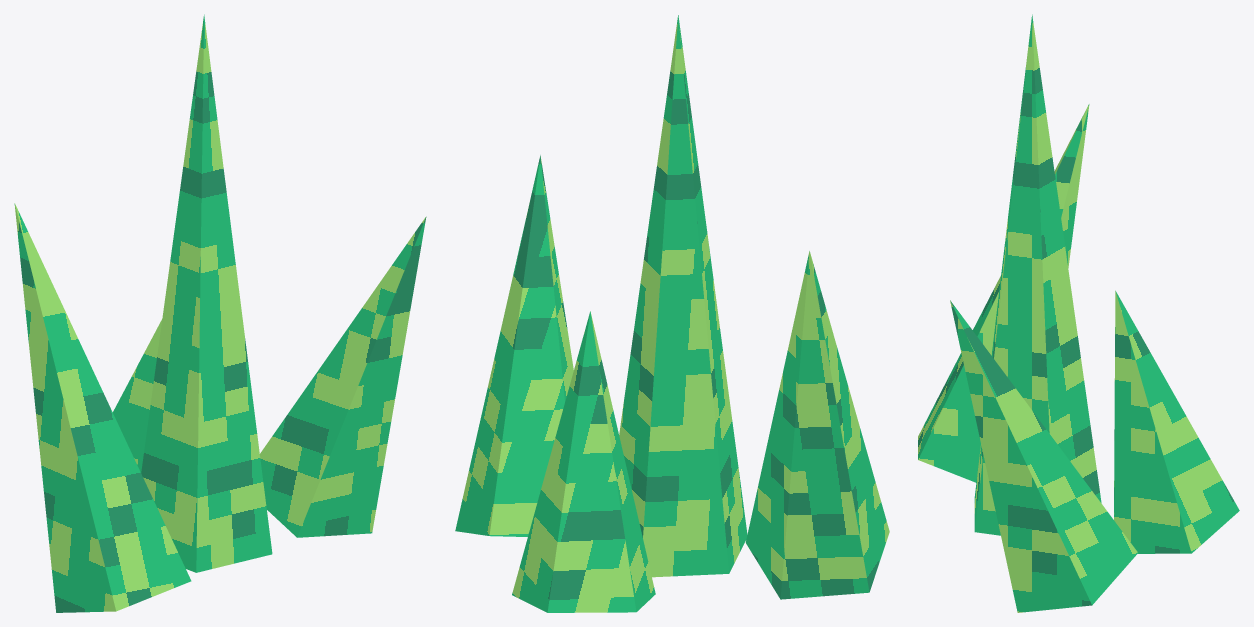
File: r02_cristal_verde.glb
3 renders of one model, left to right at view 1: azimuth 30°, elevation 25°; view 2: azimuth 150°, elevation 25°; view 3: azimuth 270°, elevation 25°, orthographic. The views are drawn at different scales.
Visible parts, largest first — view 1: r02_cristal_verde; view 2: r02_cristal_verde; view 3: r02_cristal_verde.
Part boxes in pixels (<box>): r02_cristal_verde: <box>14,14,426,612</box>; r02_cristal_verde: <box>455,15,889,612</box>; r02_cristal_verde: <box>918,14,1239,612</box>.
Size of the model in its own units: 0.9887 by 1.47 by 0.8155.
Materials: 1 (1 with a texture image).
